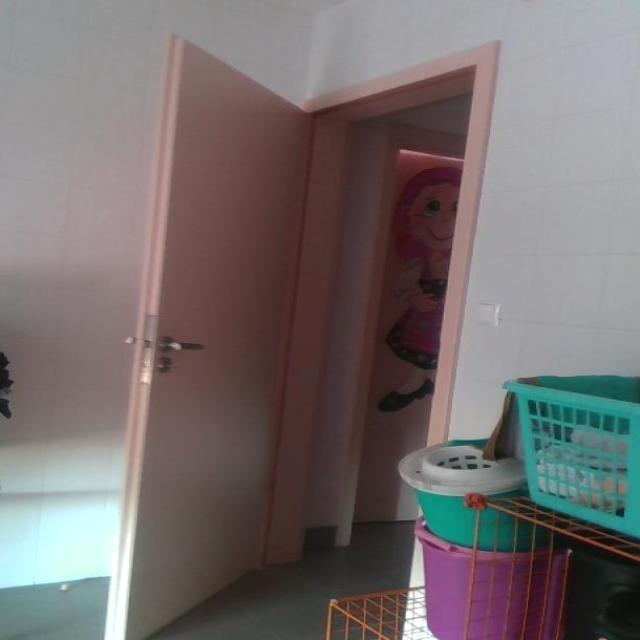door: (103, 34, 314, 638)
